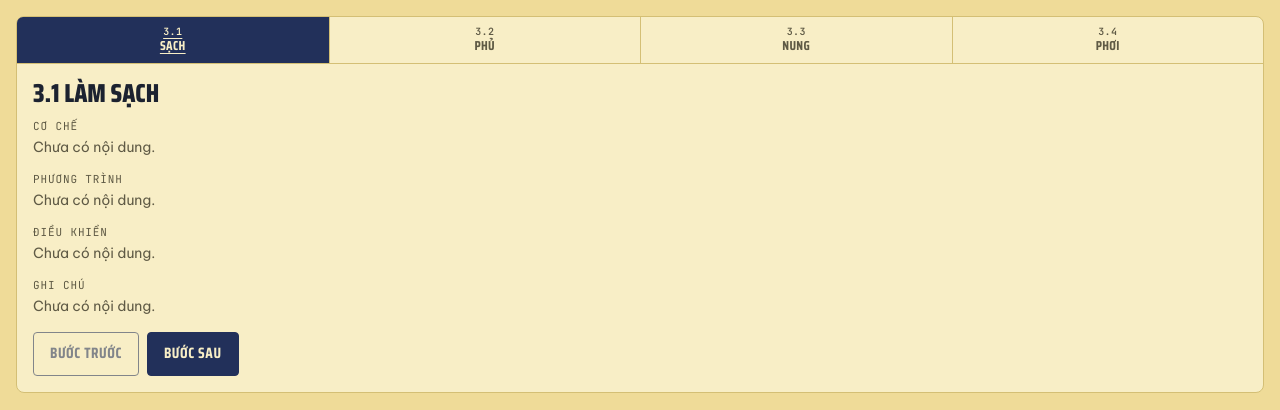
Test: Traveler with its own steps › stops "previous" at the first step and "next" at the last of its own list
The image size is (1280, 410).
Check: the button "Bước trước" is disabled, box [33,332,139,376]
What coordinates should you click on to do the following:
click the button "Bước sau"
I would click on:
 (193, 354)
Its box is [147,332,239,376].
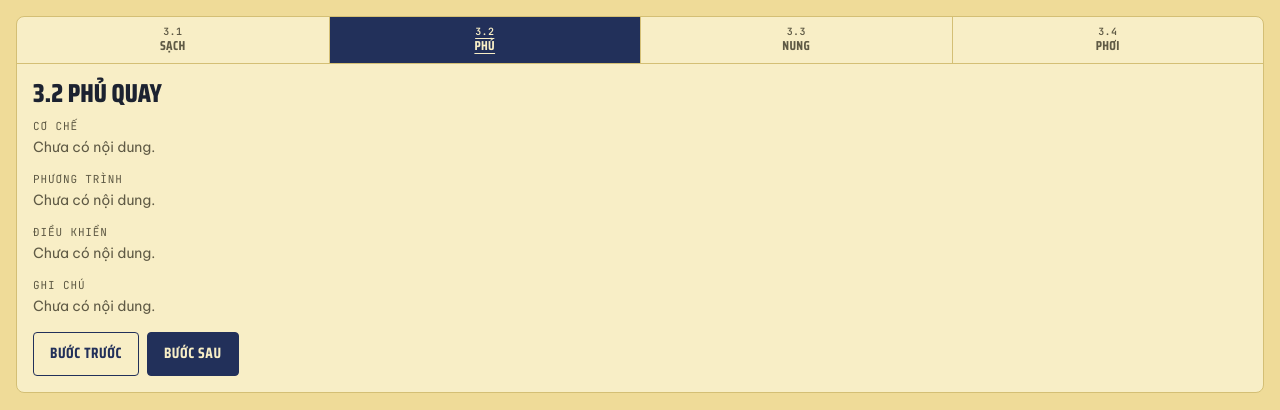
What coordinates should you click on to do the following:
click the button "Bước sau"
I would click on:
 (193, 354)
Its box is [147,332,239,376].
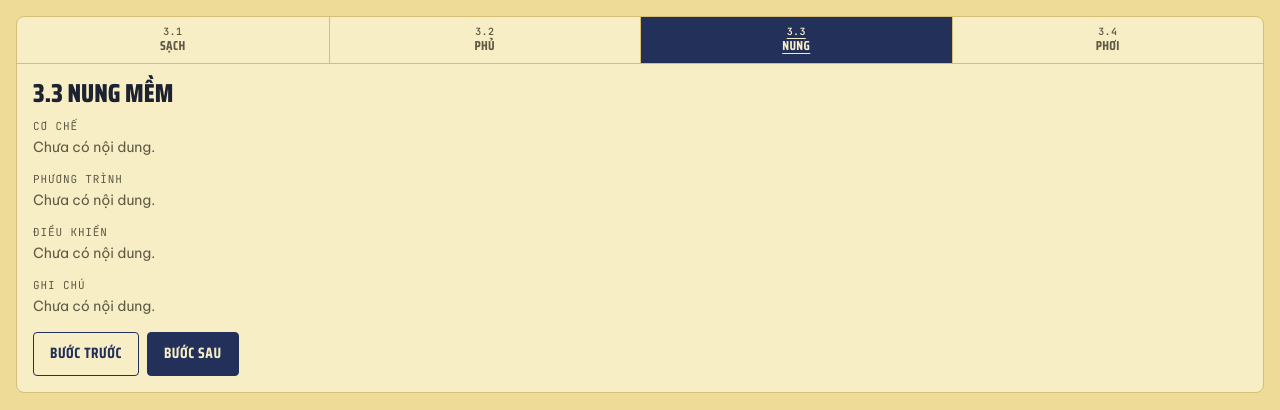
What coordinates should you click on to do the following:
click the button "Bước sau"
I would click on:
 (193, 354)
Its box is [147,332,239,376].
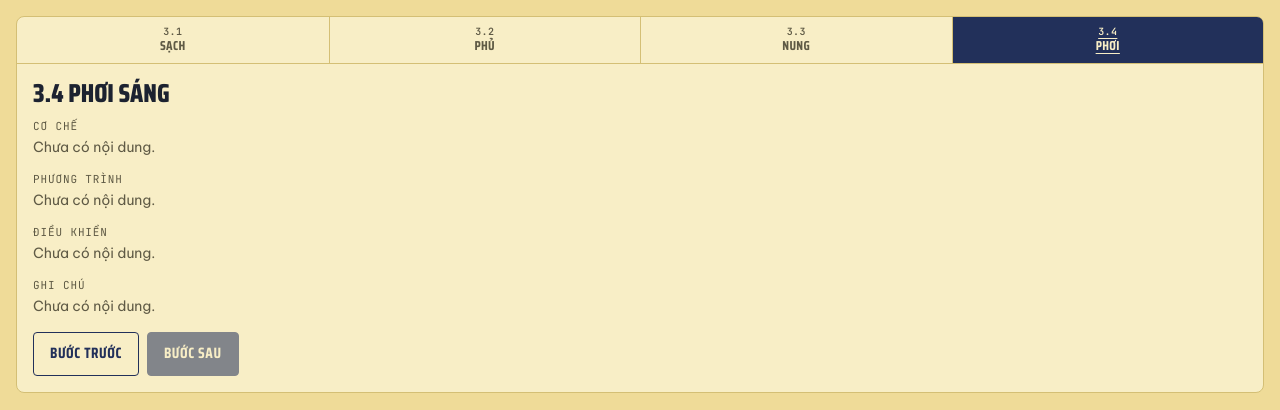
Check: the button "Bước trước" is enabled, box [33,332,139,376]
Check: the heading "3.4 Phơi sáng" is shown, box [33,72,170,113]
Check: the button "Bước sau" is disabled, box [147,332,239,376]
